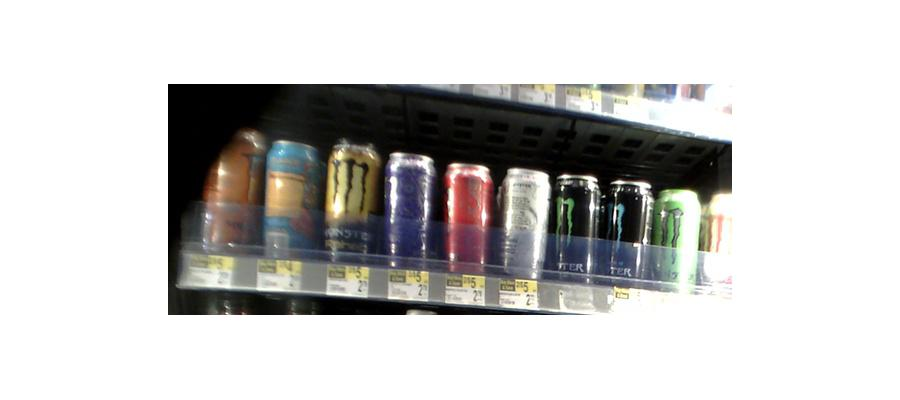bottle: (198, 120, 261, 261), (324, 140, 379, 271), (263, 141, 318, 271), (382, 154, 436, 271), (553, 171, 604, 289), (442, 161, 495, 273), (498, 167, 548, 281), (655, 184, 701, 295), (610, 176, 652, 288)
